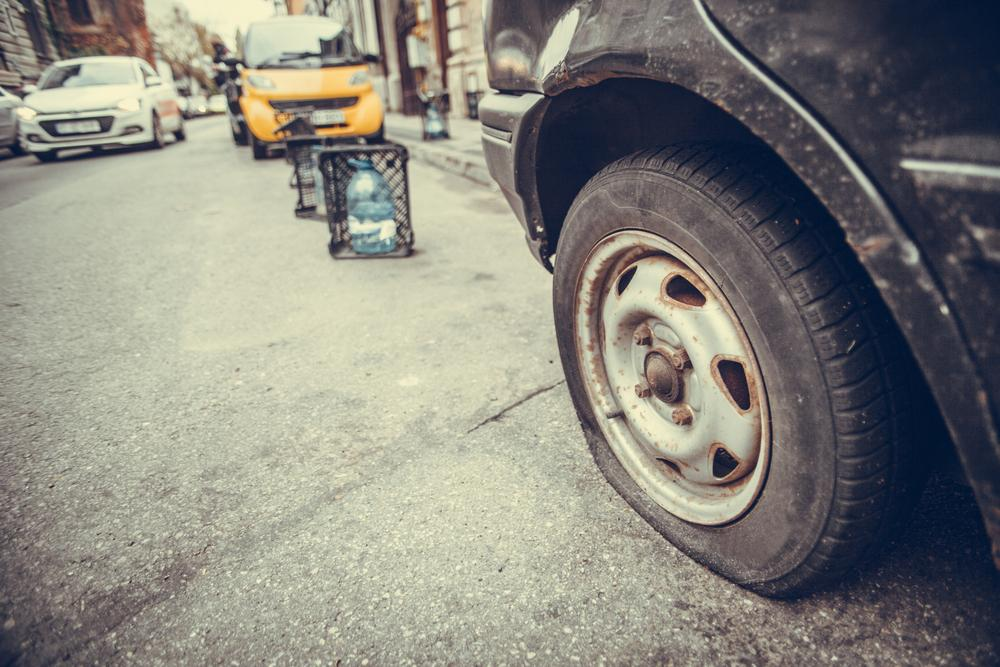tire flat: (555, 139, 902, 603)
